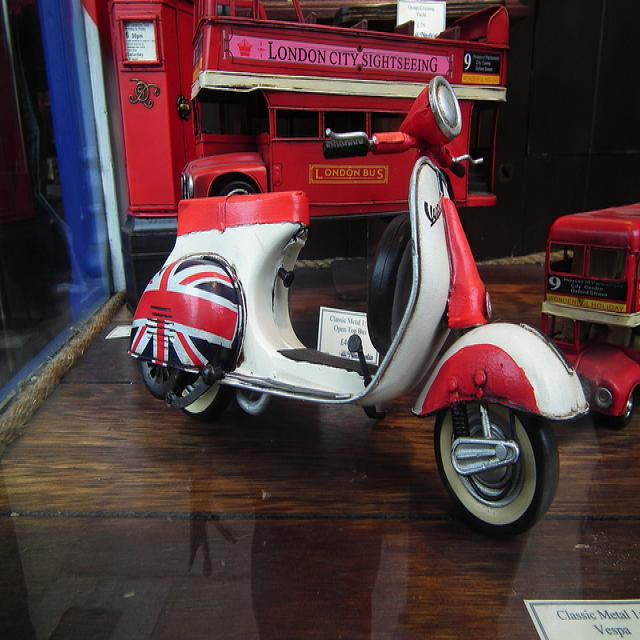motor: (129, 73, 589, 541)
